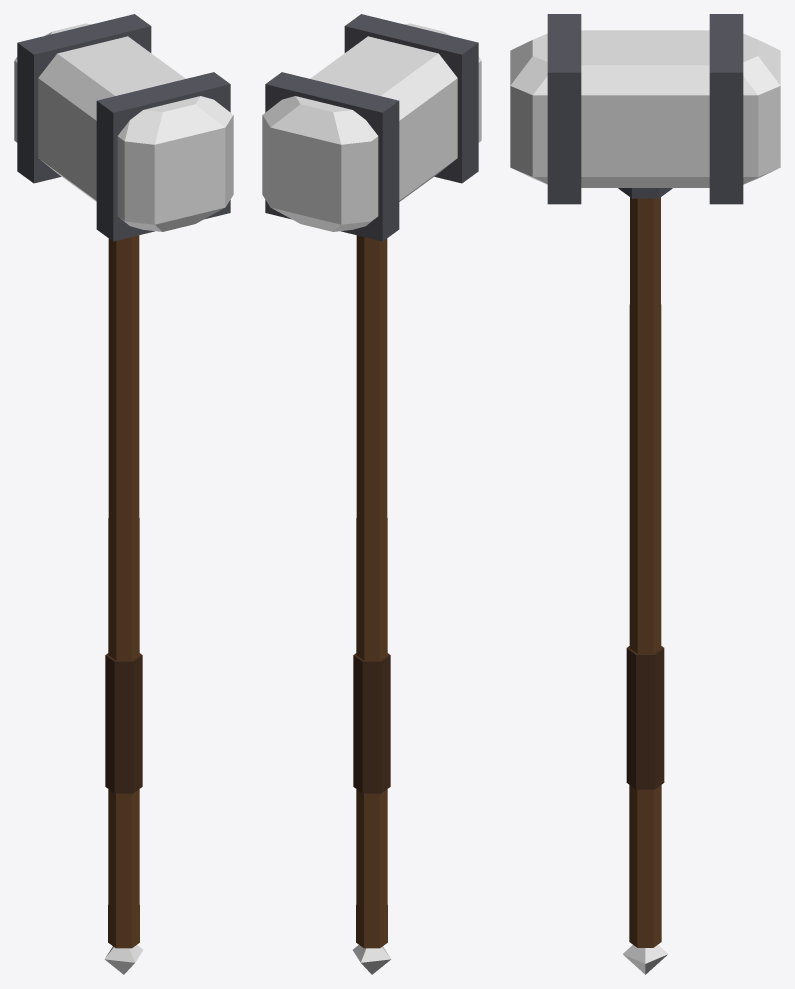
Rendered from weapon_maul.glb.
3 renders of one model, left to right at view 1: azimuth 30°, elevation 25°; view 2: azimuth 150°, elevation 25°; view 3: azimuth 270°, elevation 25°, orthographic. The views are drawn at different scales.
Visible parts, largest first — view 1: weapon_maul; view 2: weapon_maul; view 3: weapon_maul.
Boxes of the visible parts, box(x1,y1,x2,y2) form: weapon_maul: box(14, 14, 233, 974); weapon_maul: box(262, 14, 481, 974); weapon_maul: box(510, 14, 780, 974).
Size of the model in its own units: 0.205 by 1.52 by 0.4.
